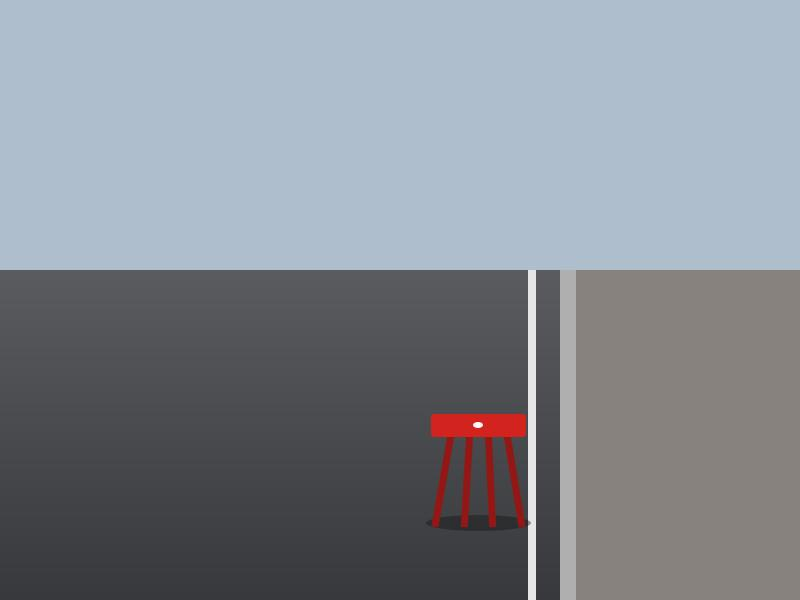ROAD_OBSTACLE: (431, 414, 526, 523)
